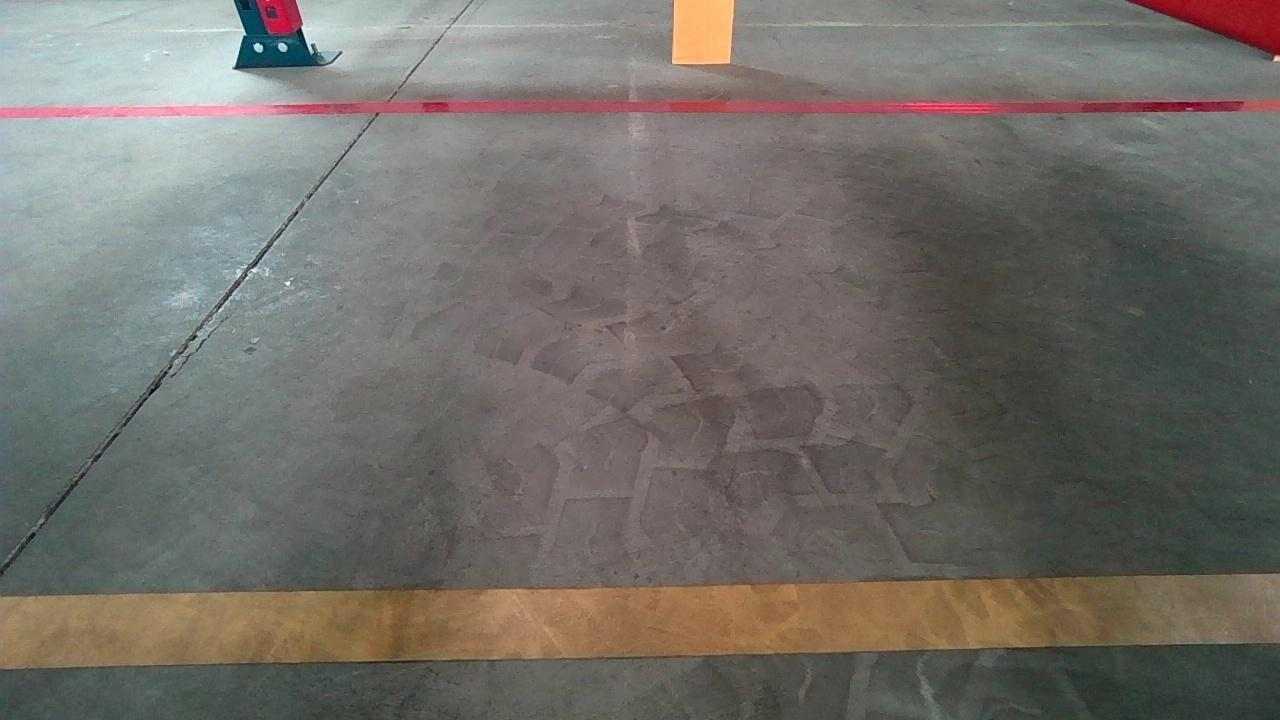red_line: (8, 94, 1274, 119)
yellow_line: (2, 570, 1267, 673)
